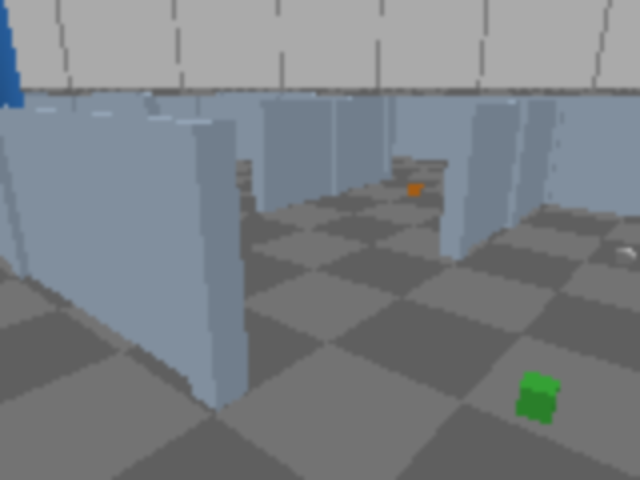person: (0, 0, 34, 173)
puck: (516, 370, 560, 425), (612, 244, 638, 269)
